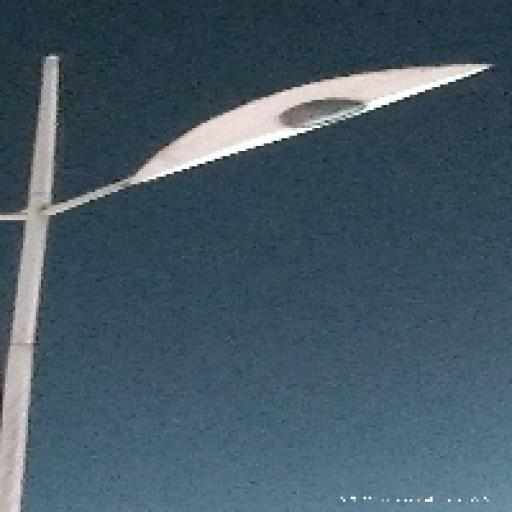Not Working: (89, 36, 496, 209)
